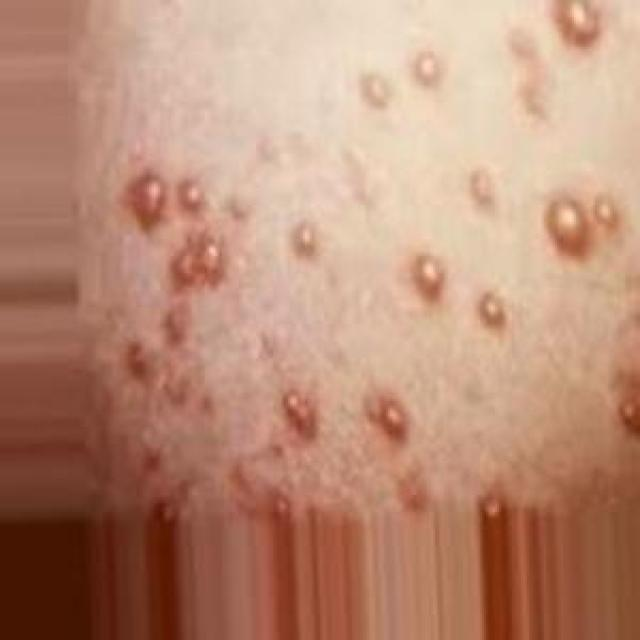Shingles: (172, 233, 225, 290), (543, 198, 589, 258), (126, 172, 166, 226), (553, 0, 600, 45), (366, 394, 409, 443), (281, 390, 317, 437), (410, 253, 446, 297), (468, 168, 496, 206), (360, 72, 391, 106), (478, 293, 508, 328), (412, 49, 442, 84), (177, 178, 207, 212), (162, 306, 188, 344), (291, 222, 320, 256), (618, 391, 640, 432), (125, 344, 148, 378), (272, 494, 292, 518)
